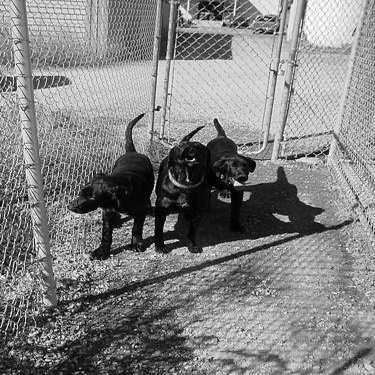dog: (55, 104, 153, 265), (157, 117, 210, 256), (206, 113, 249, 236)
